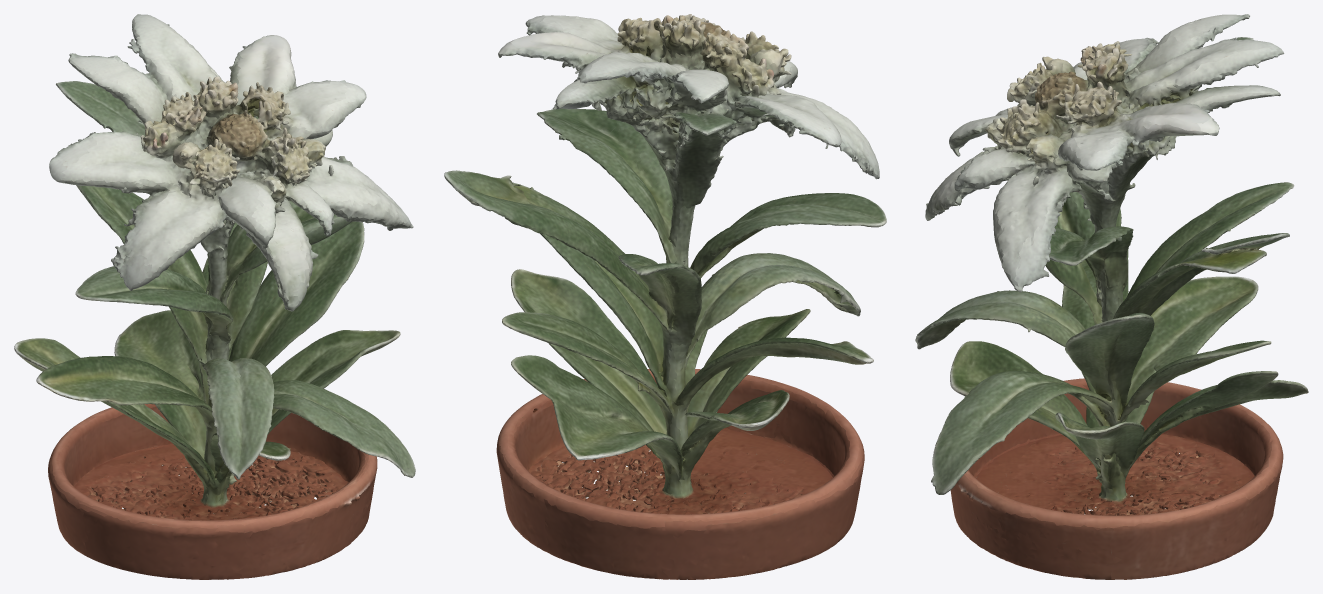
File: edelweiss-cluster-v21.glb
3 renders of one model, left to right at view 1: azimuth 30°, elevation 25°; view 2: azimuth 150°, elevation 25°; view 3: azimuth 270°, elevation 25°, orthographic. The views are drawn at different scales.
Parts seen in each view (by area): view 1: world; view 2: world; view 3: world.
Boxes of the visible parts, box(x1,y1,x2,y2) form: world: box(14, 14, 415, 579); world: box(444, 14, 886, 579); world: box(915, 14, 1308, 579).
Size of the model in its own units: 0.2577 by 0.32 by 0.2446.
Materials: 1 (1 with a texture image).
